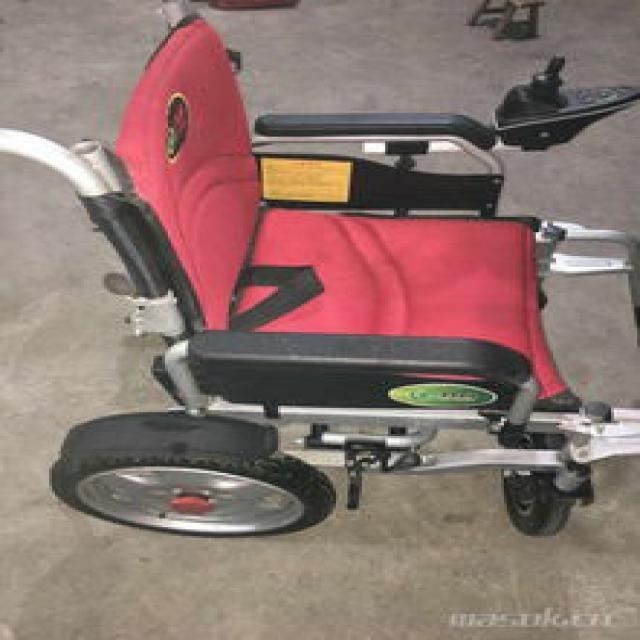wheelchair: (5, 4, 638, 538)
